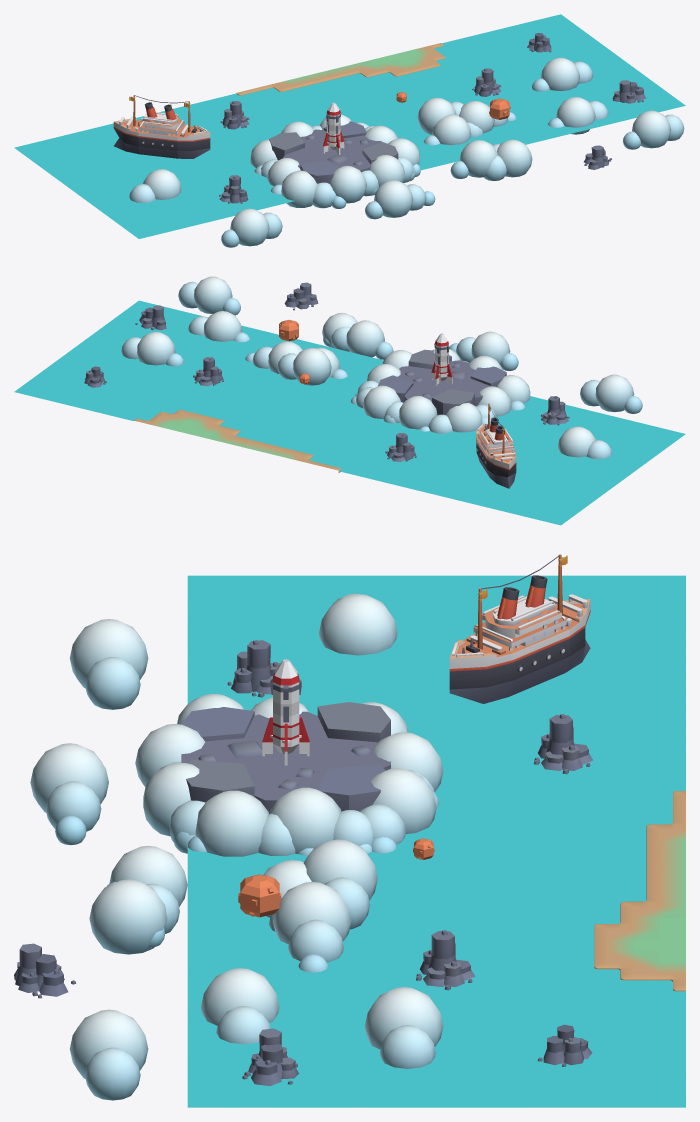
Rendered from Skylands-transformed.glb.
3 views of the same model, one above another, from view 1: azimuth 30°, elevation 25°; view 2: azimuth 150°, elevation 25°; view 3: azimuth 270°, elevation 25° (orthographic). The views are drawn at different scales.
Parts seen in each view (by area): view 1: square_water_detail2, Cloud_025, rocks, ship-ocean-liner-small, Cloud_023, Cloud_014, Cloud_018, Cloud_01, Cloud_032, Cloud_017, Cloud_022, Cloud_034 (+10 smaller); view 2: square_water_detail2, Cloud_025, rocks, ship-ocean-liner-small, Cloud_018, Cloud_014, Cloud_022, Cloud_023, Cloud_01, Cloud_03, Cloud_017, Cloud_034 (+9 smaller); view 3: square_water_detail2, Cloud_025, rocks, ship-ocean-liner-small, Cloud_023, Cloud_014, Cloud_018, Cloud_02, Cloud_01, Cloud_032, Cloud_017, Cloud_034 (+11 smaller).
Boxes of the visible parts, x1,y1,x2,y2 form: square_water_detail2: (14, 14, 685, 238); Cloud_025: (250, 114, 420, 208); rocks: (269, 121, 398, 183); ship-ocean-liner-small: (113, 95, 210, 158); Cloud_023: (365, 180, 435, 219); Cloud_014: (623, 110, 684, 149); Cloud_018: (221, 208, 282, 247); Cloud_01: (532, 57, 593, 91); Cloud_032: (484, 139, 532, 180); Cloud_017: (548, 97, 608, 134); Cloud_022: (450, 140, 499, 178); Cloud_034: (129, 169, 181, 203); square_water_detail2: (14, 300, 685, 525); Cloud_025: (351, 349, 530, 433); rocks: (377, 349, 506, 415); ship-ocean-liner-small: (476, 403, 516, 488); Cloud_018: (580, 374, 642, 413); Cloud_014: (178, 276, 240, 315); Cloud_022: (323, 320, 393, 359); Cloud_023: (449, 331, 518, 370); Cloud_01: (121, 332, 183, 366); Cloud_03: (277, 348, 331, 385); Cloud_017: (188, 311, 249, 342); Cloud_034: (558, 426, 611, 459); square_water_detail2: (187, 575, 685, 1107); Cloud_025: (135, 694, 443, 856); rocks: (181, 702, 390, 813); ship-ocean-liner-small: (449, 554, 590, 703); Cloud_023: (30, 743, 108, 845); Cloud_014: (69, 1009, 148, 1100); Cloud_018: (69, 619, 148, 709); Cloud_02: (273, 881, 351, 972); Cloud_01: (364, 987, 443, 1068); Cloud_032: (89, 879, 167, 954); Cloud_017: (201, 968, 279, 1044); Cloud_034: (319, 593, 397, 655).
Size of the model in its own units: 96 by 12.44 by 51.25.
Materials: 7 (7 with a texture image).
